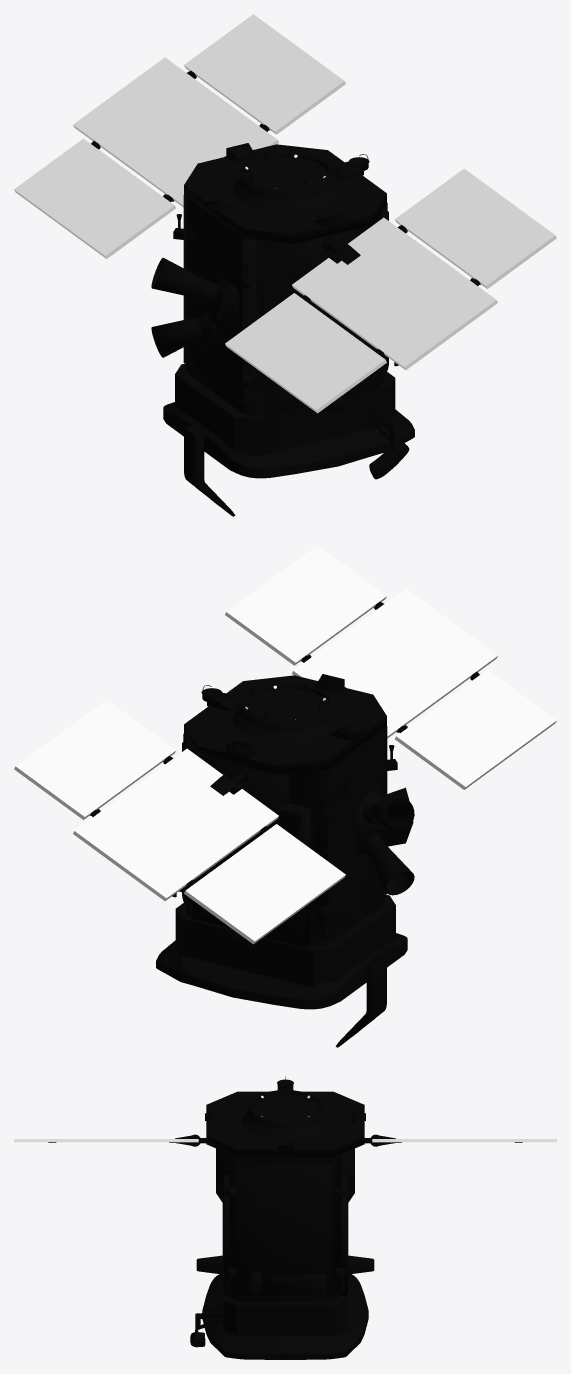
Rendered from CloudSat-label-solar_panel.fbx.
3 views of the same model, one above another, from view 1: azimuth 30°, elevation 25°; view 2: azimuth 150°, elevation 25°; view 3: azimuth 270°, elevation 25° (orthographic). The views are drawn at different scales.
Parts seen in each view (by area): view 1: CloudSat-label-solar_panel; view 2: CloudSat-label-solar_panel; view 3: CloudSat-label-solar_panel.
Boxes of the visible parts, x1,y1,x2,y2 form: CloudSat-label-solar_panel: (14,14,556,516); CloudSat-label-solar_panel: (14,545,556,1047); CloudSat-label-solar_panel: (14,1076,556,1359).
Bounding box in the file's own units: 44.26 × 58.92 × 102.
7 materials, 3 textured.
